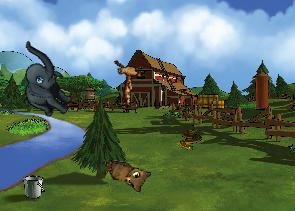eagle: (101, 49, 156, 108)
elephant: (0, 40, 88, 123)
owl: (101, 159, 151, 194)
